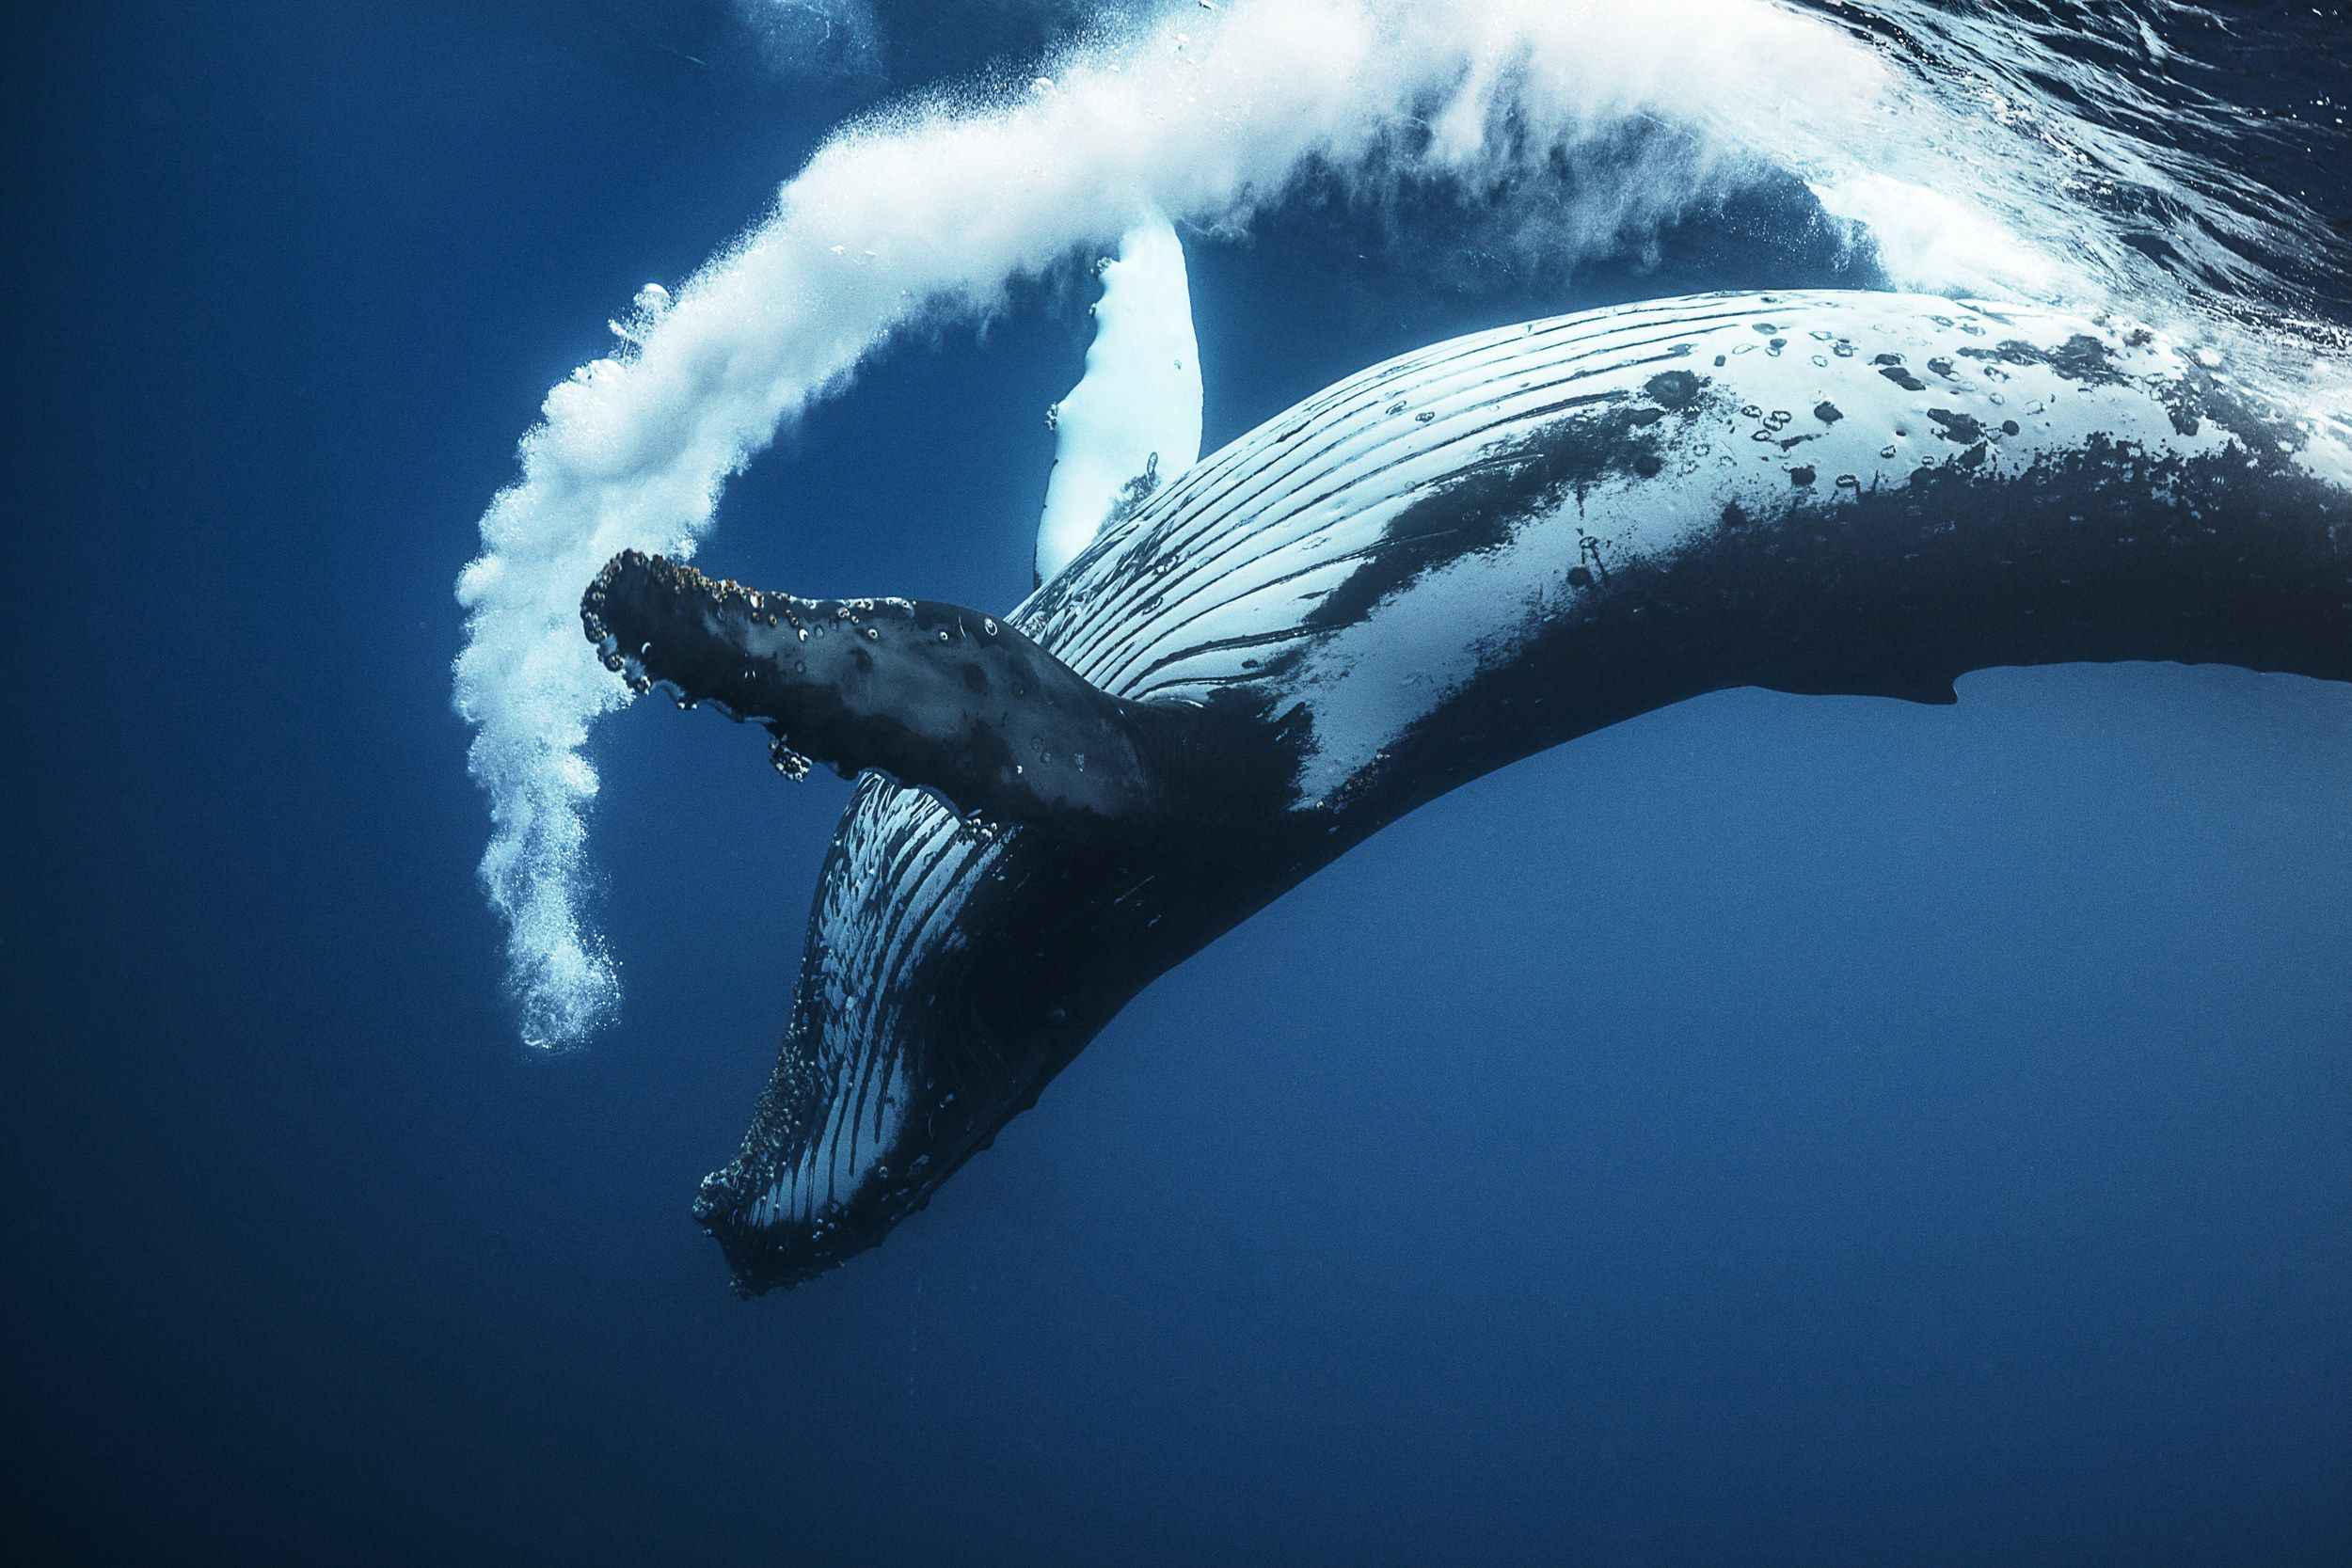humpback: (646, 329, 2333, 1300)
